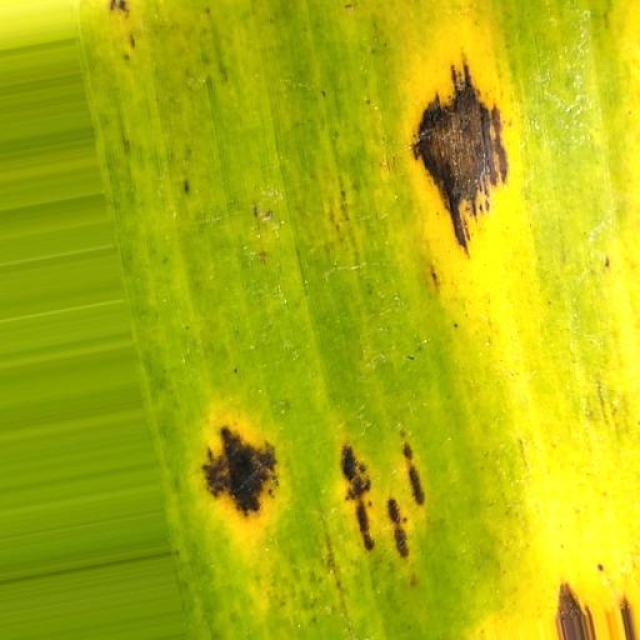Early_rust: (378, 38, 546, 279)
